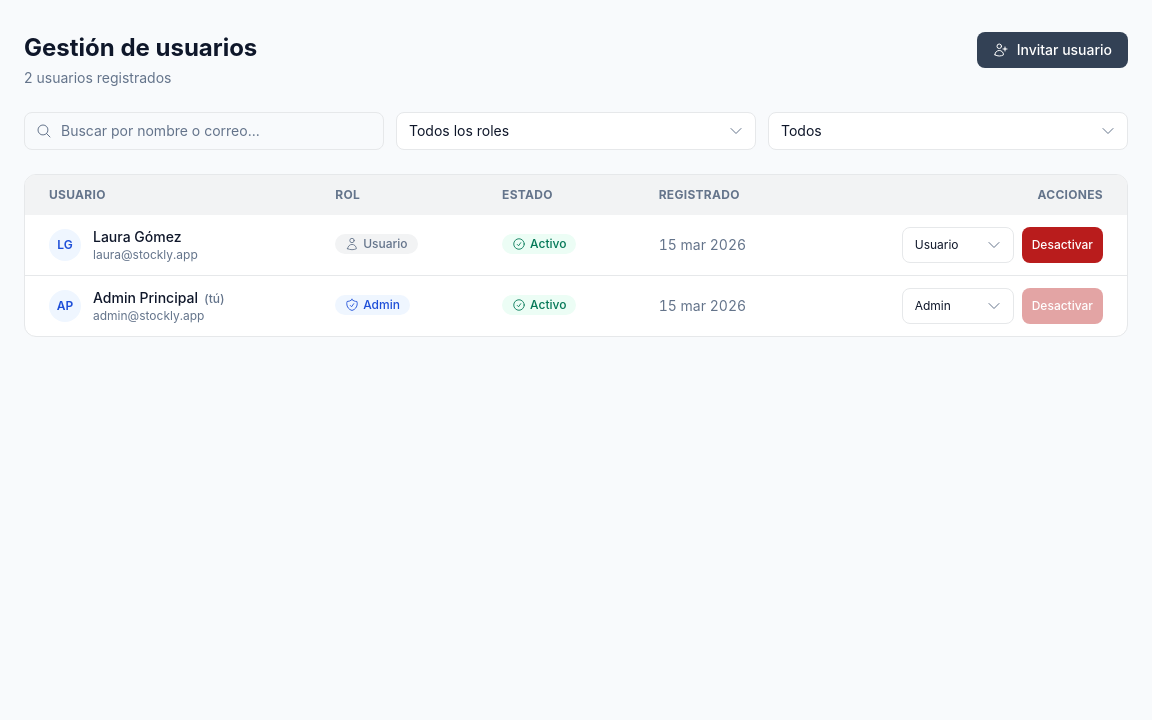
Test case: UsersPage (T2-20) › T6-10 — invitar a una persona › el rol empieza en el de menos alcance
Click the button "Invitar usuario" at (1052, 50), box [977,32,1128,68]
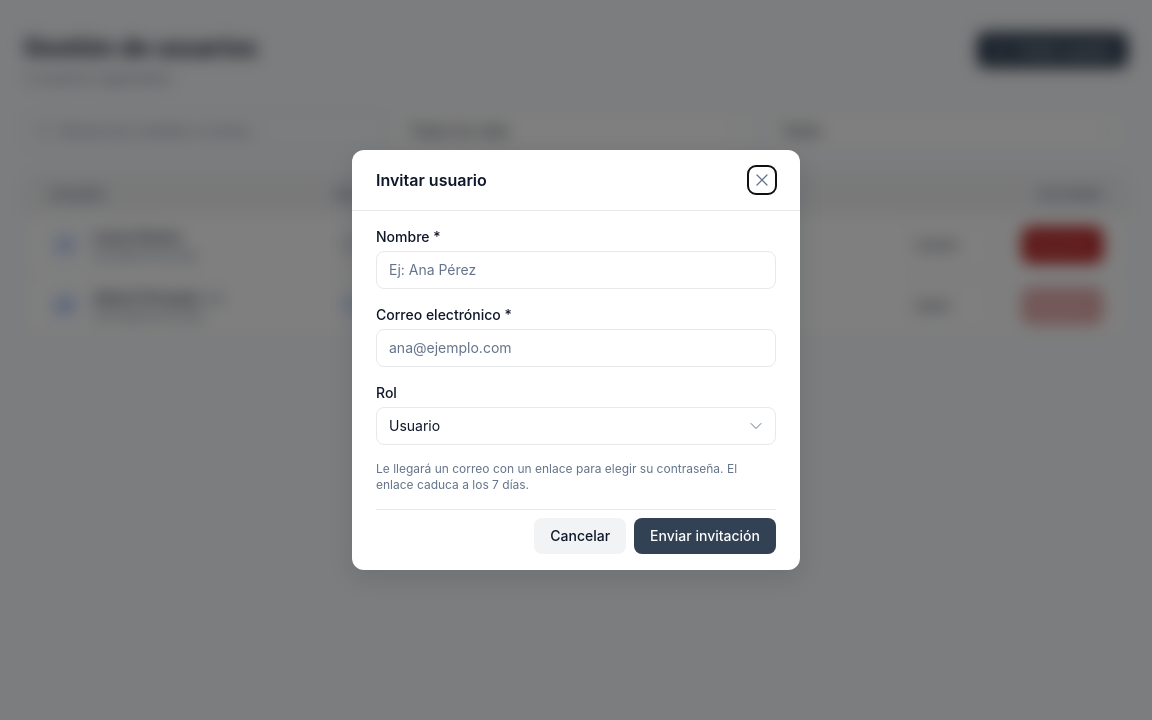
expect the dropdown labelled "Rol" shows "Usuario": met, box [376,407,776,445]
